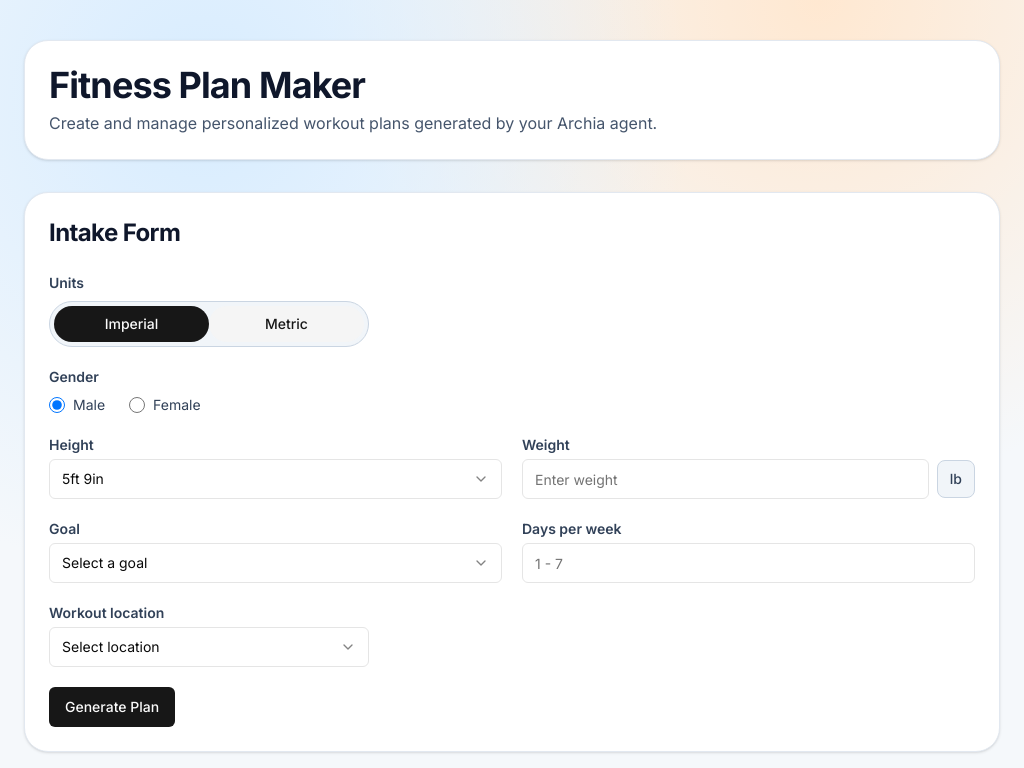
Test: App › switching units resets height and weight and updates field controls
Type "180" into the field labelled "Weight" at (725, 479), box [522,459,929,499]
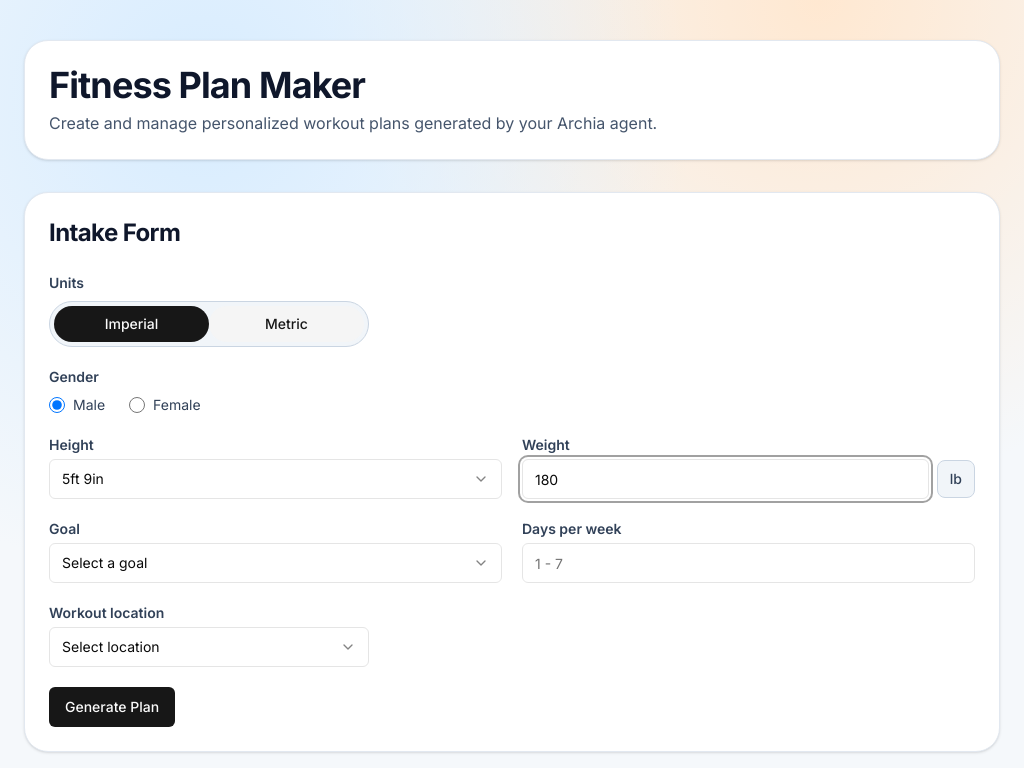
Click the button "Metric" at (286, 324), box [209,306,364,342]
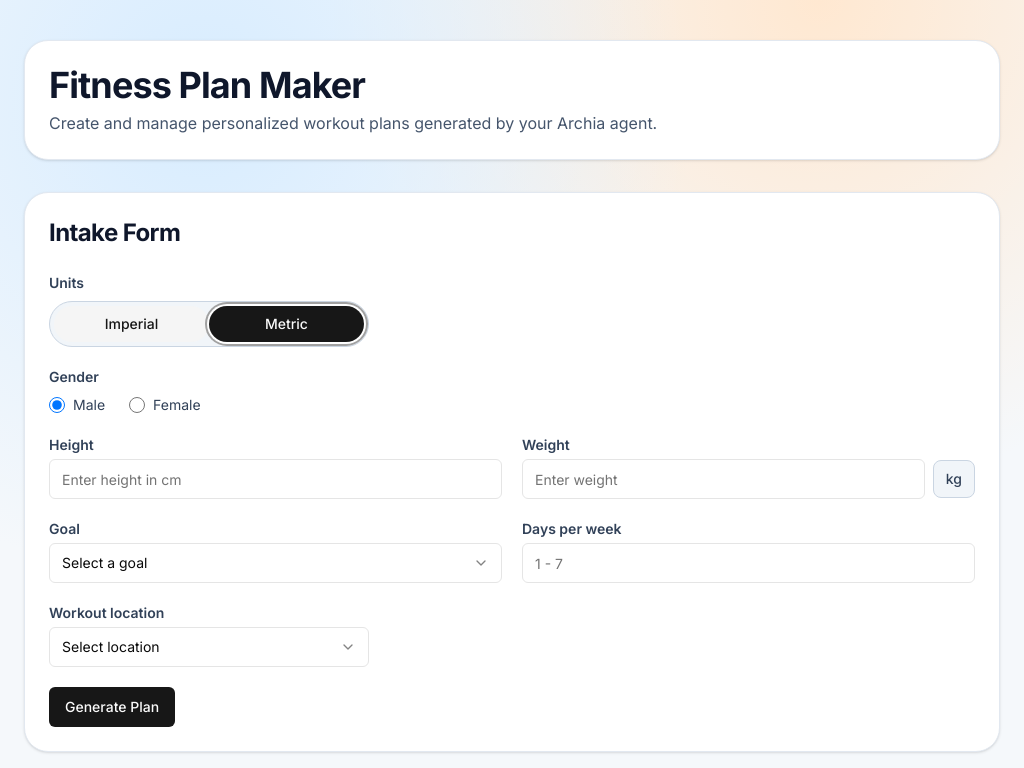
Expected: the number field labelled "Height" is not empty
Expected: the field labelled "Weight" is empty, [522,459,925,499]
Expected: the text "kg" is shown, [933,460,975,498]
Type "180" into the number field labelled "Height" at (276, 479), box [49,459,502,499]
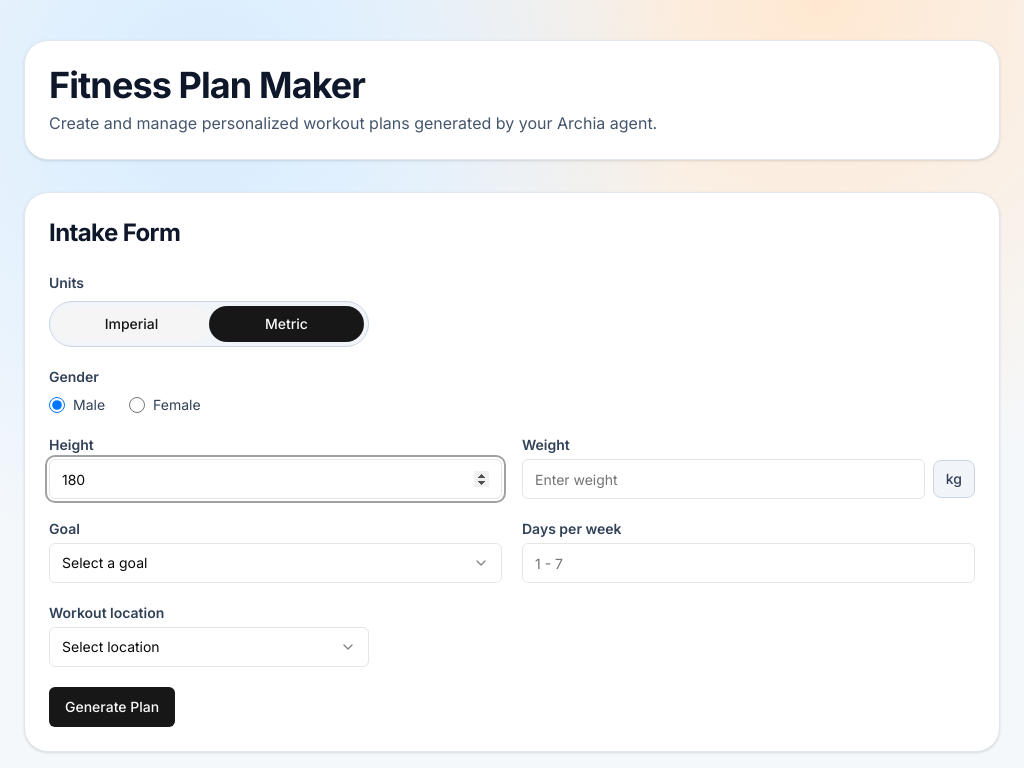
Type "81" into the field labelled "Weight" at (723, 479), box [522,459,925,499]
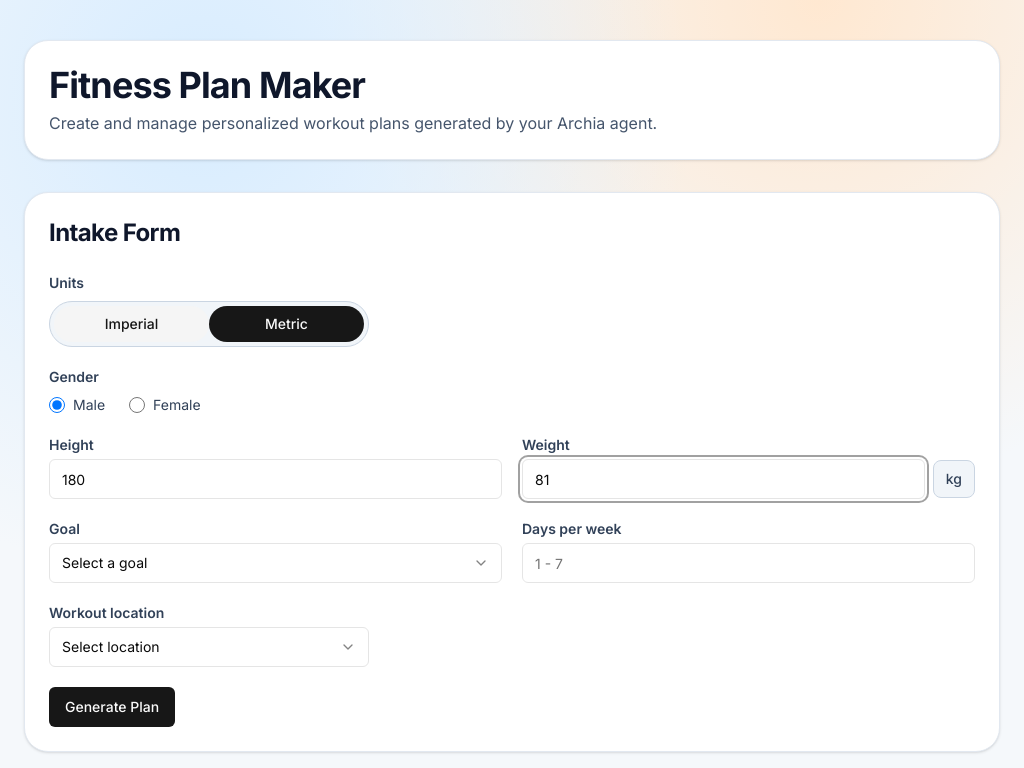
Click the button "Imperial" at (132, 324), box [54,306,209,342]
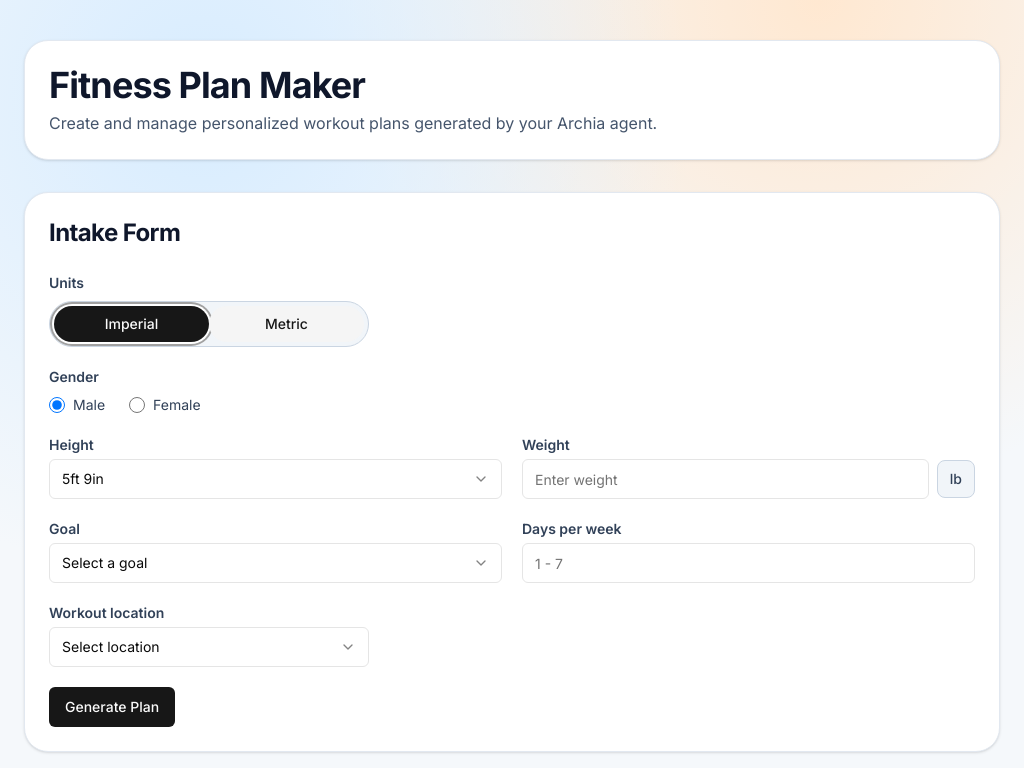
Expected: the dropdown named "height" reads "5ft 9in", [49,459,502,499]
Expected: the field labelled "Weight" is empty, [522,459,929,499]
Expected: the text "lb" is shown, [937,460,975,498]
